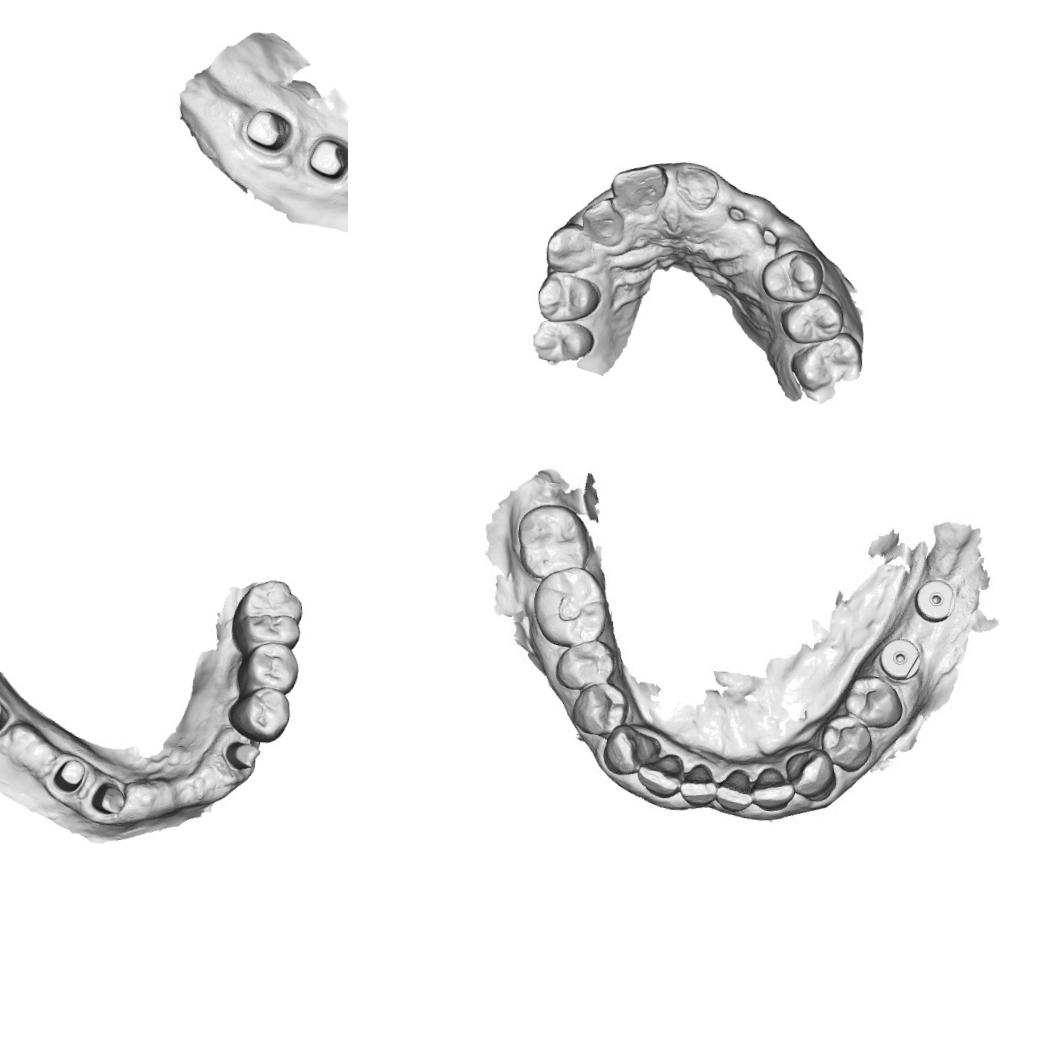abutment: (241, 103, 295, 158), (304, 127, 348, 186), (49, 753, 90, 797), (88, 778, 130, 818), (221, 738, 264, 772), (0, 690, 17, 744)
canine: (599, 720, 664, 781), (781, 746, 839, 802), (543, 220, 598, 274)
implant: (911, 572, 958, 628), (876, 636, 920, 678)
incisor: (607, 160, 669, 218), (578, 194, 626, 248), (640, 750, 685, 800), (716, 762, 756, 809), (680, 758, 716, 802), (753, 765, 789, 808)
molar: (228, 575, 306, 658), (530, 567, 604, 645), (788, 325, 864, 396), (519, 506, 586, 577)
premolar: (224, 683, 293, 744), (234, 637, 302, 698), (777, 288, 846, 347), (842, 672, 906, 734), (759, 245, 825, 305), (534, 270, 602, 326), (554, 638, 616, 692), (528, 318, 596, 365), (821, 713, 874, 772), (576, 682, 628, 734)
